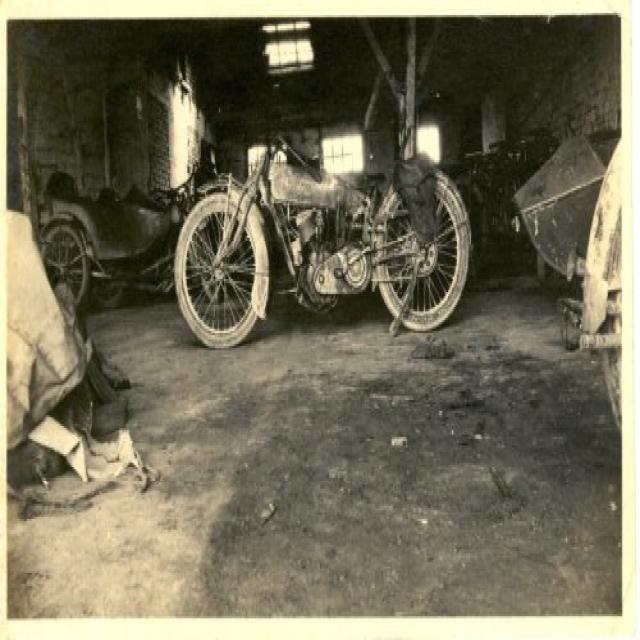motor: (172, 133, 471, 350)
